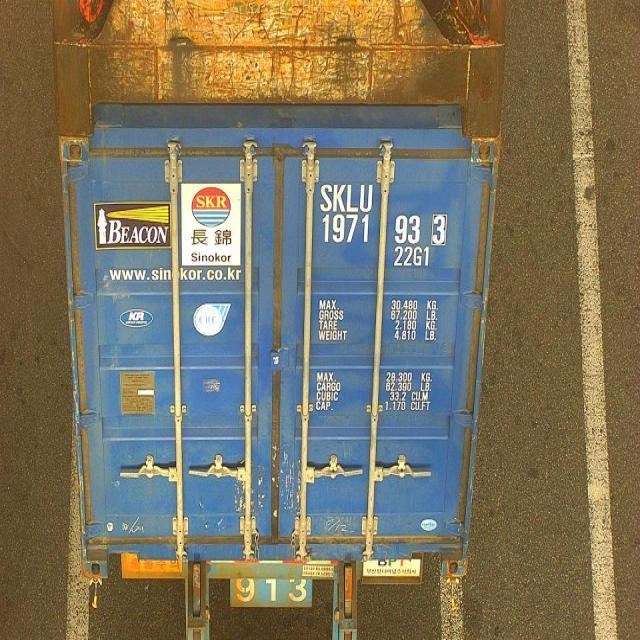ISO: (393, 248, 433, 268)
container_number: (316, 176, 452, 248)
